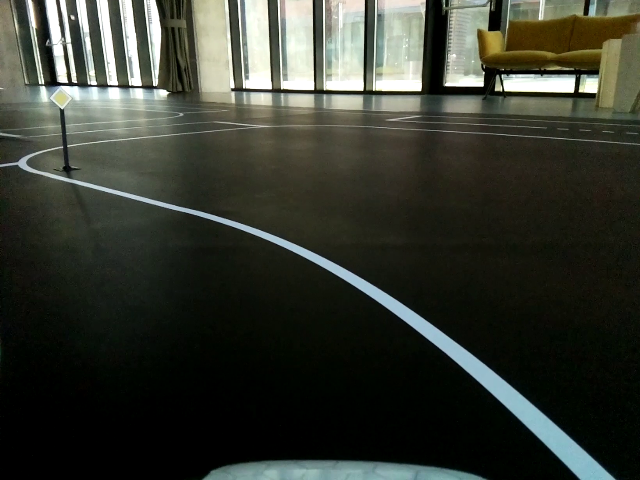priority: (49, 89, 72, 109)
